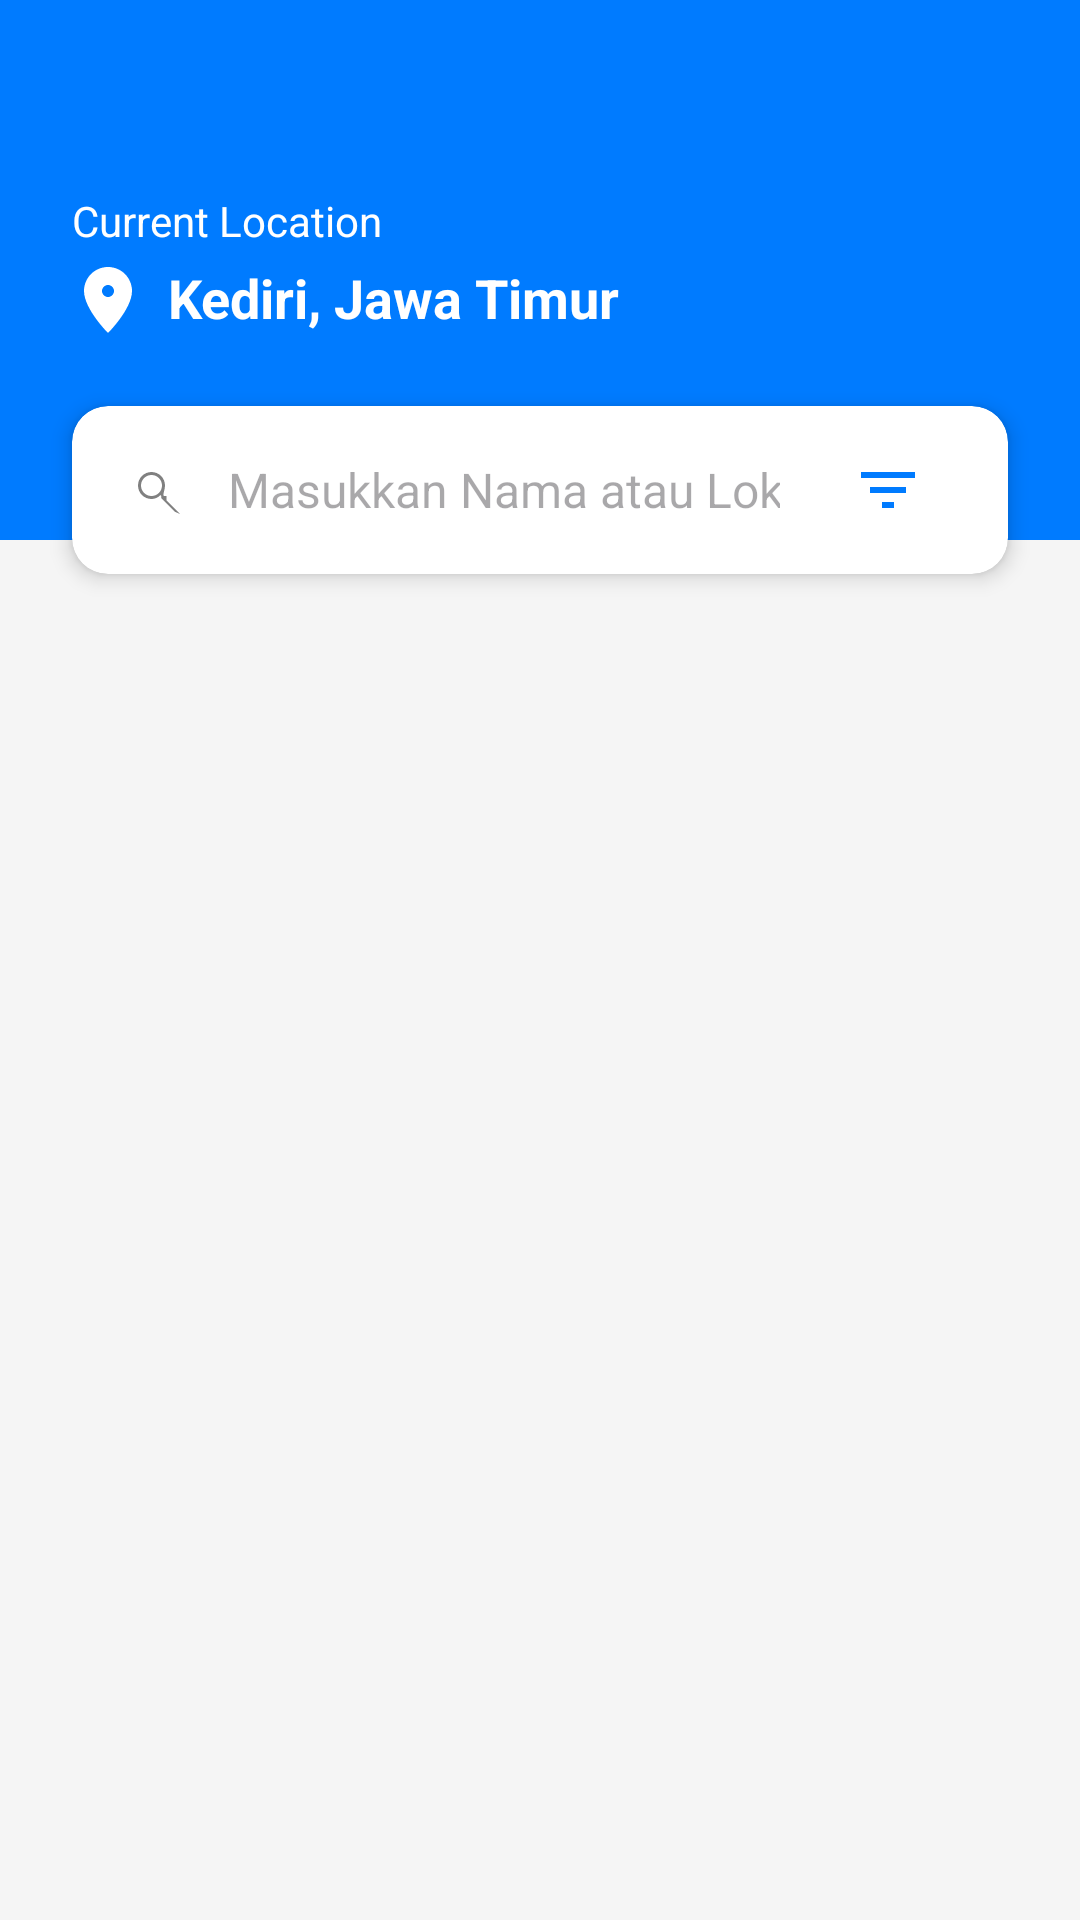

Icon bounding boxes for this 1080×1920 phone screenshot, format bbox(x1, y1, x2, y2):
Filter: bbox(861, 472, 915, 508)
Search: bbox(138, 472, 180, 514)
